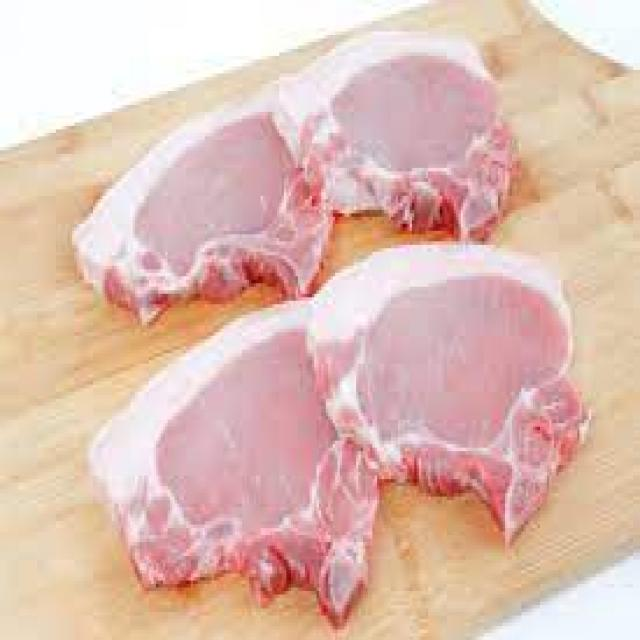pork: (91, 245, 586, 624), (74, 31, 514, 320)
